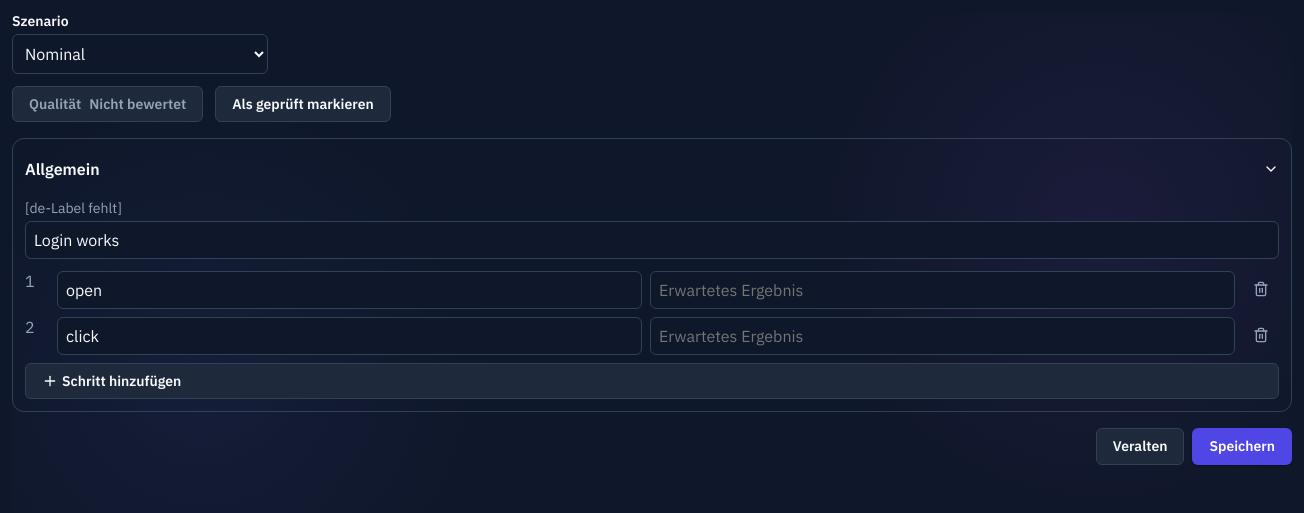
Scenario: TestCaseArtifactForm › announces a failed save with an assertive live region (#677)
The width and height of the screenshot is (1304, 513).
Click the button with test id "artifact-form-save".
click(1242, 446)  # box [1192,428,1292,465]
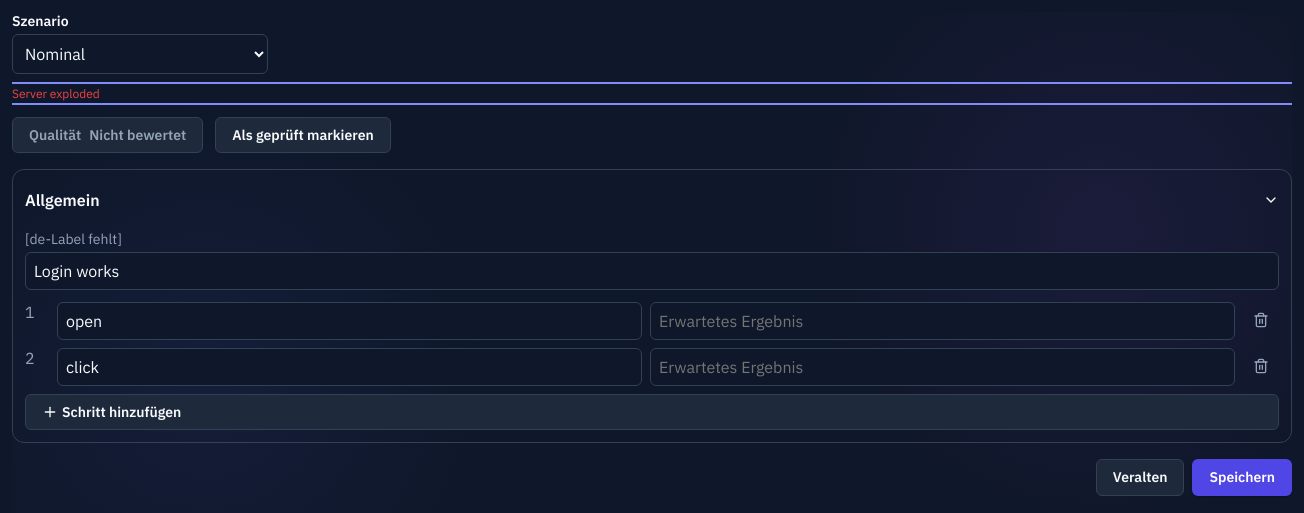
Now the message with test id "artifact-form-error" reads "Server exploded", box [12,86,100,101]
